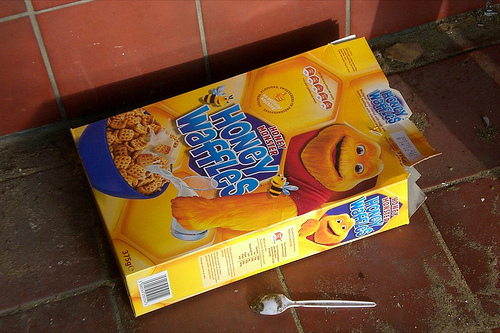litter: (68, 35, 434, 317)
